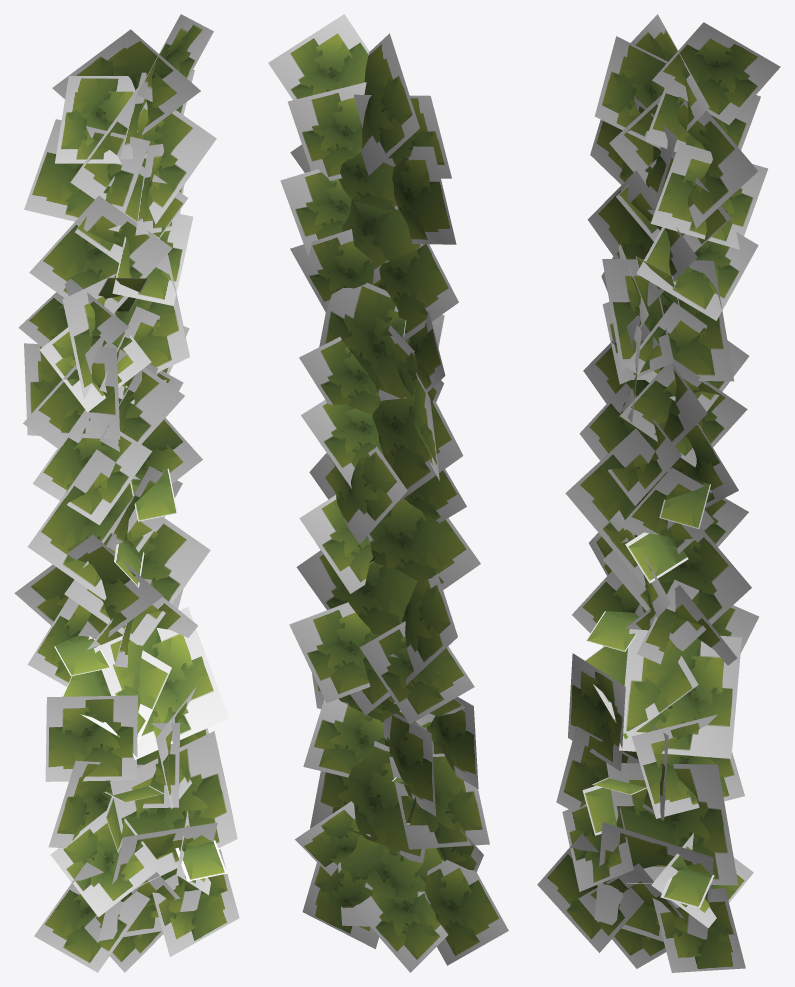
The model's file is Ivy_04.glb.
The picture shows the model from 3 angles, left to right: view 1: azimuth 30°, elevation 25°; view 2: azimuth 150°, elevation 25°; view 3: azimuth 330°, elevation 25°; orthographic projection.
Visible parts, largest first — view 1: Ivy_04_LOD0; view 2: Ivy_04_LOD0; view 3: Ivy_04_LOD0.
Boxes of the visible parts, box(x1,y1,x2,y2) form: Ivy_04_LOD0: box(14, 14, 239, 972); Ivy_04_LOD0: box(268, 14, 508, 972); Ivy_04_LOD0: box(537, 14, 780, 972).
Size of what is drawn, in the model's own units: 0.9219 by 3.95 by 0.4809.
1 material, 1 textured.
